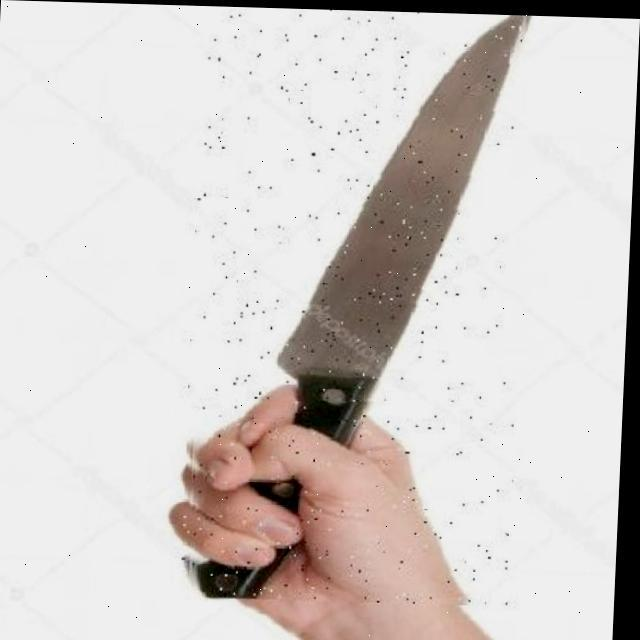knife: (183, 5, 532, 602)
